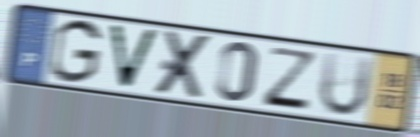0: (214, 39, 259, 104)
G: (47, 17, 105, 86)
U: (316, 49, 376, 119)
V: (106, 21, 162, 93)
X: (151, 29, 216, 101)
Z: (260, 44, 318, 113)
